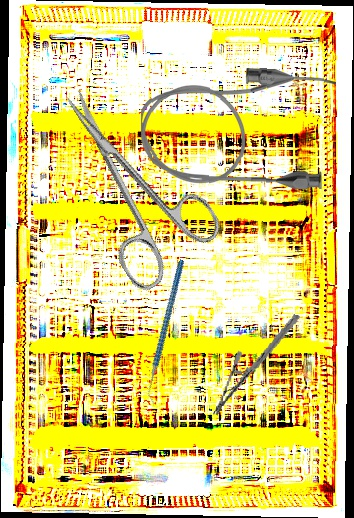Cannula: (139, 66, 337, 190)
Chopper: (105, 259, 229, 406)
Iris Scissors: (30, 63, 231, 296)
Needle Holder: (211, 302, 301, 428)
